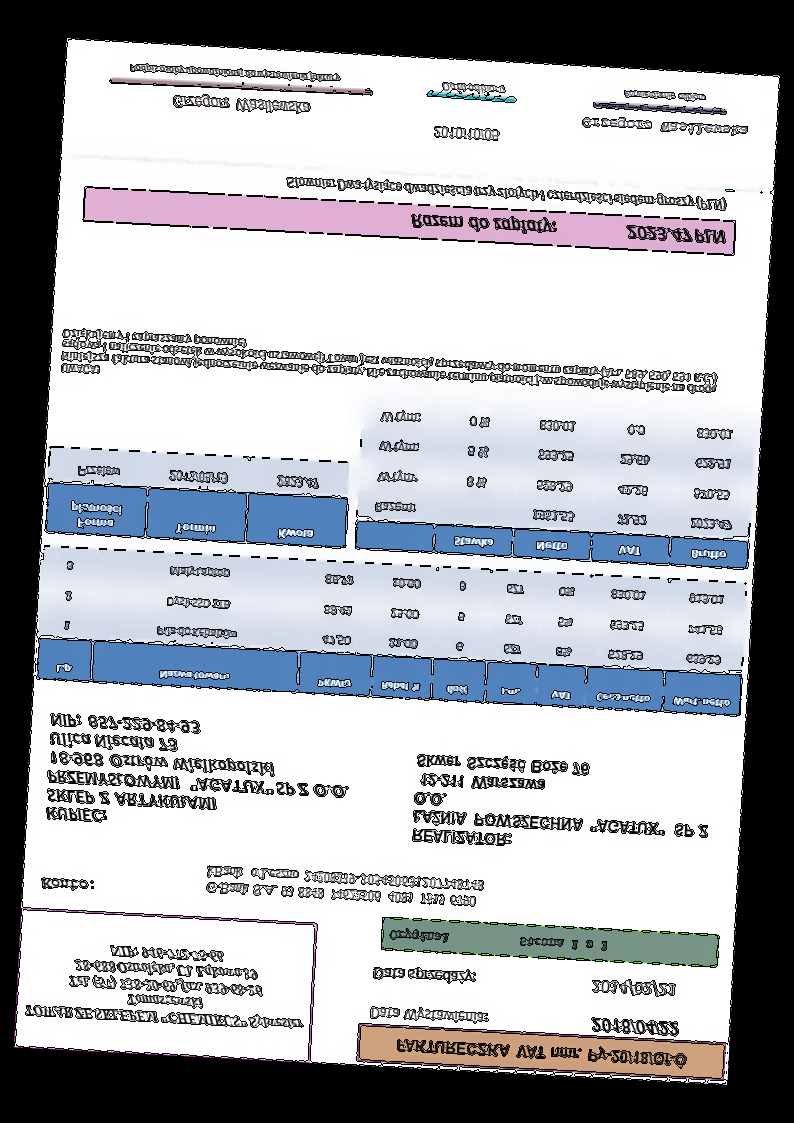Table: (35, 545, 748, 717), (353, 398, 757, 571), (44, 445, 350, 548)
TextBox: (58, 324, 720, 411), (41, 709, 356, 839), (409, 749, 714, 860), (21, 936, 308, 1036), (283, 171, 733, 216), (201, 860, 486, 912), (405, 207, 729, 252), (391, 1037, 688, 1071), (388, 926, 610, 956), (125, 60, 343, 89), (577, 114, 750, 141), (169, 91, 313, 121), (368, 1003, 490, 1028), (370, 963, 478, 989), (586, 1013, 681, 1041), (589, 974, 680, 1001), (620, 85, 709, 107), (429, 122, 501, 146), (439, 81, 508, 99), (37, 875, 96, 896)
